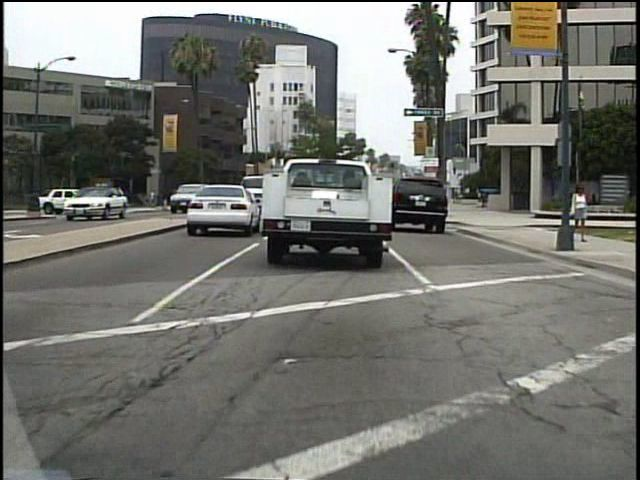person: (570, 176, 590, 247), (109, 180, 124, 214), (108, 189, 123, 220), (151, 188, 160, 210)
